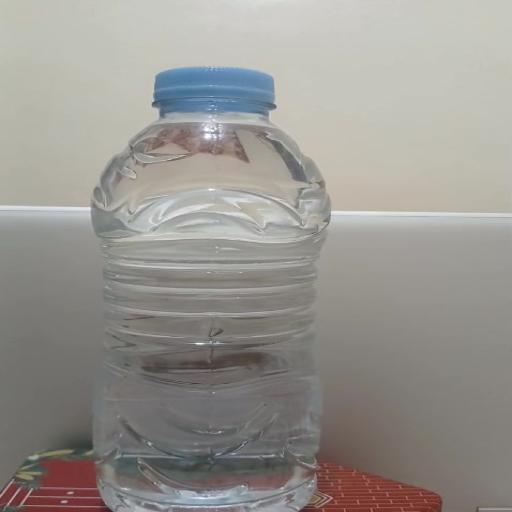bouteille non conformite: (91, 59, 368, 512), (10, 220, 420, 358)
